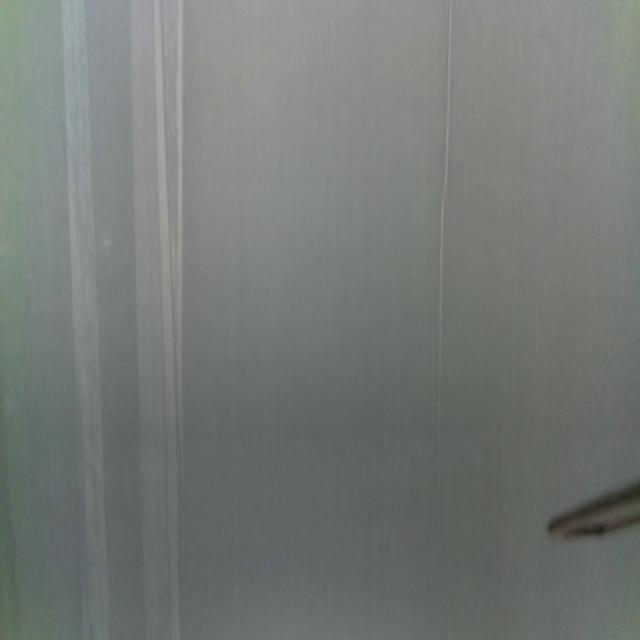crease: (130, 0, 182, 635), (60, 0, 110, 640), (436, 0, 453, 466)
